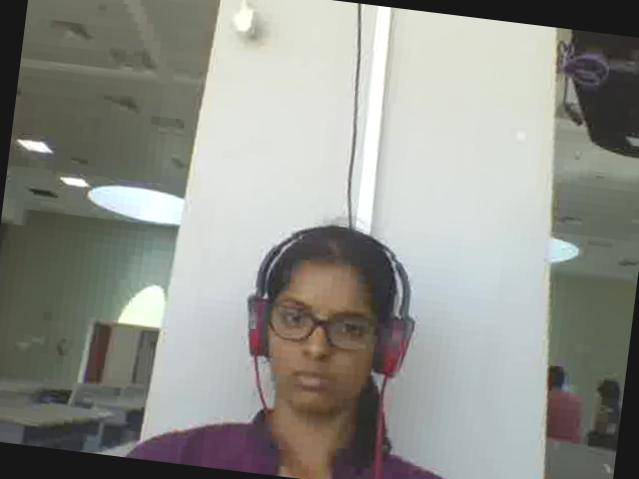bingung: (258, 263, 382, 418)
